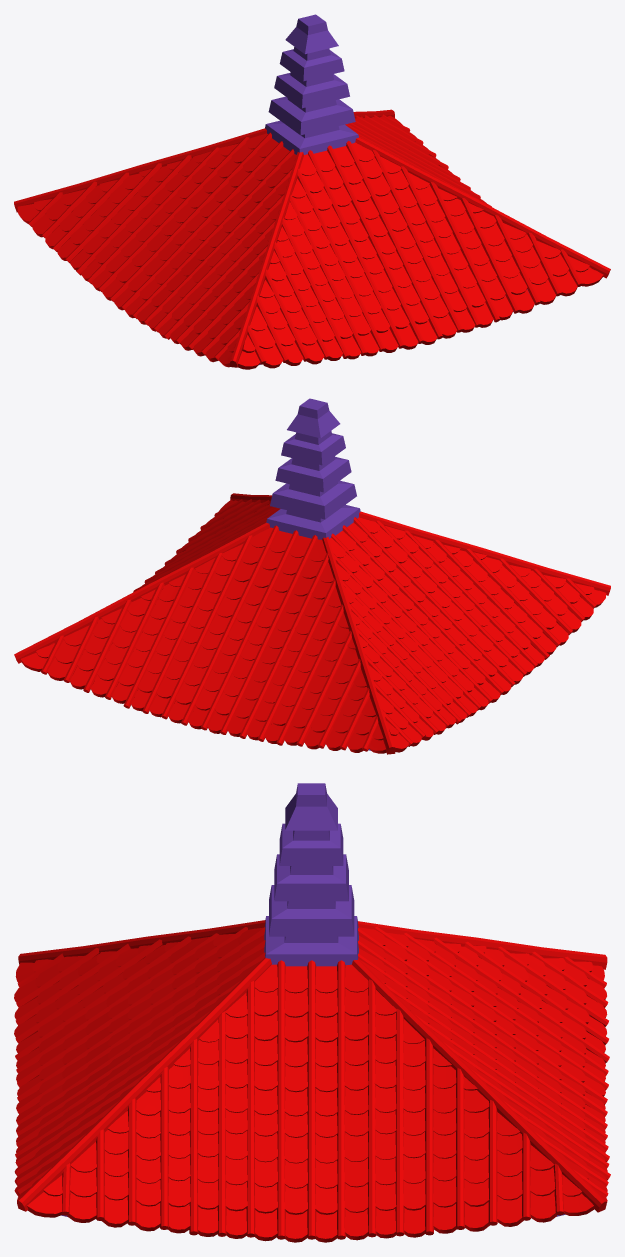
Rendered from SM_RoofTop.fbx.
3 renders of one model, top to bottom at view 1: azimuth 30°, elevation 25°; view 2: azimuth 150°, elevation 25°; view 3: azimuth 270°, elevation 25°, orthographic. The views are drawn at different scales.
Parts seen in each view (by area): view 1: TopRoof_pCylinder3; view 2: TopRoof_pCylinder3; view 3: TopRoof_pCylinder3.
Boxes of the visible parts, <box> form: TopRoof_pCylinder3: <box>14,14,610,369</box>; TopRoof_pCylinder3: <box>14,398,610,754</box>; TopRoof_pCylinder3: <box>14,783,610,1242</box>.
Size of the model in its own units: 370 by 227 by 372.
